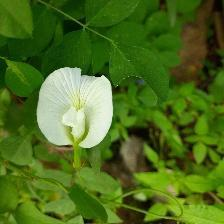shankupushpam: (36, 65, 117, 161)
